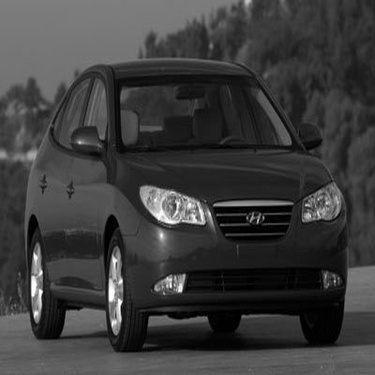car: (11, 48, 359, 343)
